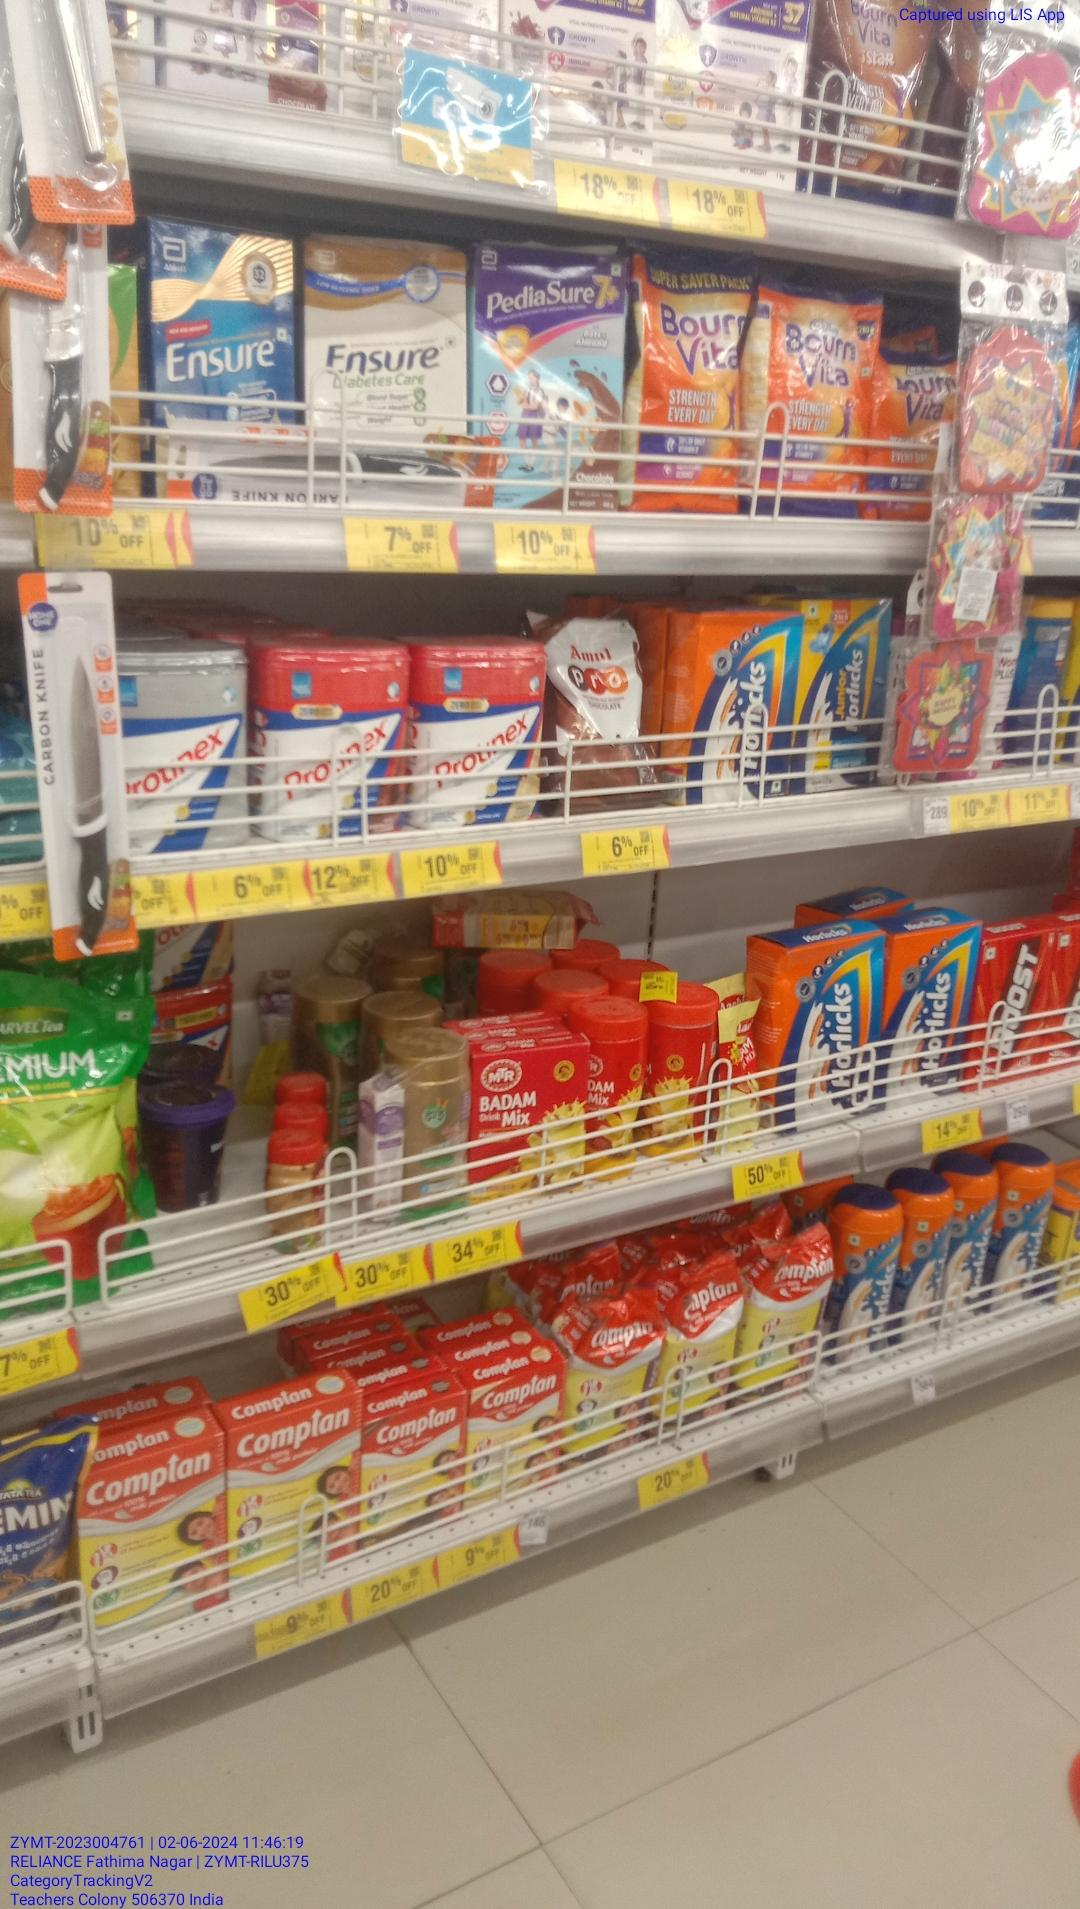ENSURE_VANILLA_400_G_PACK: (149, 226, 307, 485)
HORLICK_CLASSIC_MALT_500_G_JAR: (827, 1196, 890, 1358), (1000, 1155, 1054, 1309), (949, 1152, 995, 1326), (895, 1183, 944, 1339)
HORLICK_CLASSIC_MALT_500_G_PACK: (680, 607, 794, 796), (786, 931, 879, 1124), (885, 924, 973, 1105)
PEDIASURE_7_PLUS_CHOCOLATE_400_G_PACK: (476, 244, 627, 510)
PROTINEX_CHOCOLATE_400_G_JAR: (262, 645, 408, 835)
PROTINEX_ORIGINAL_400_G_JAR: (121, 652, 249, 844)
PROTINEX_VANILLA_400_G_JAR: (415, 646, 543, 830)
